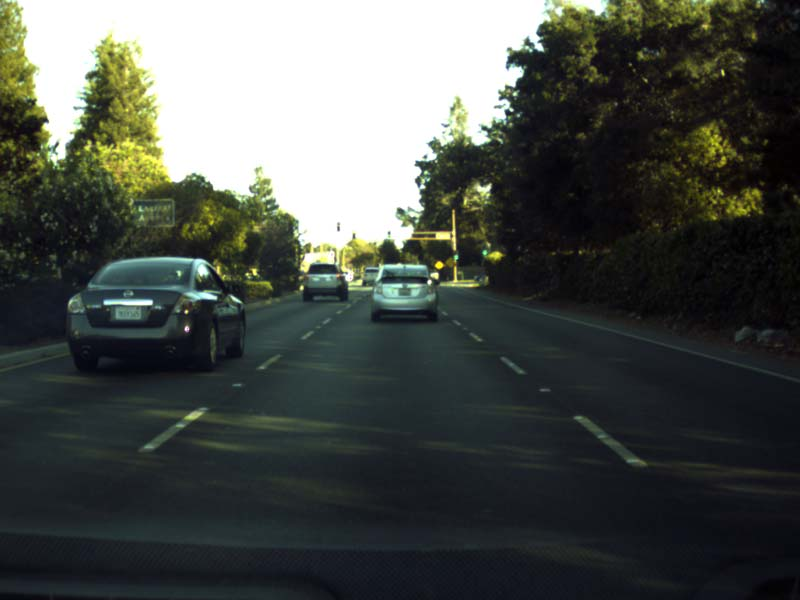Green: (481, 249, 487, 259), (453, 251, 457, 259)
